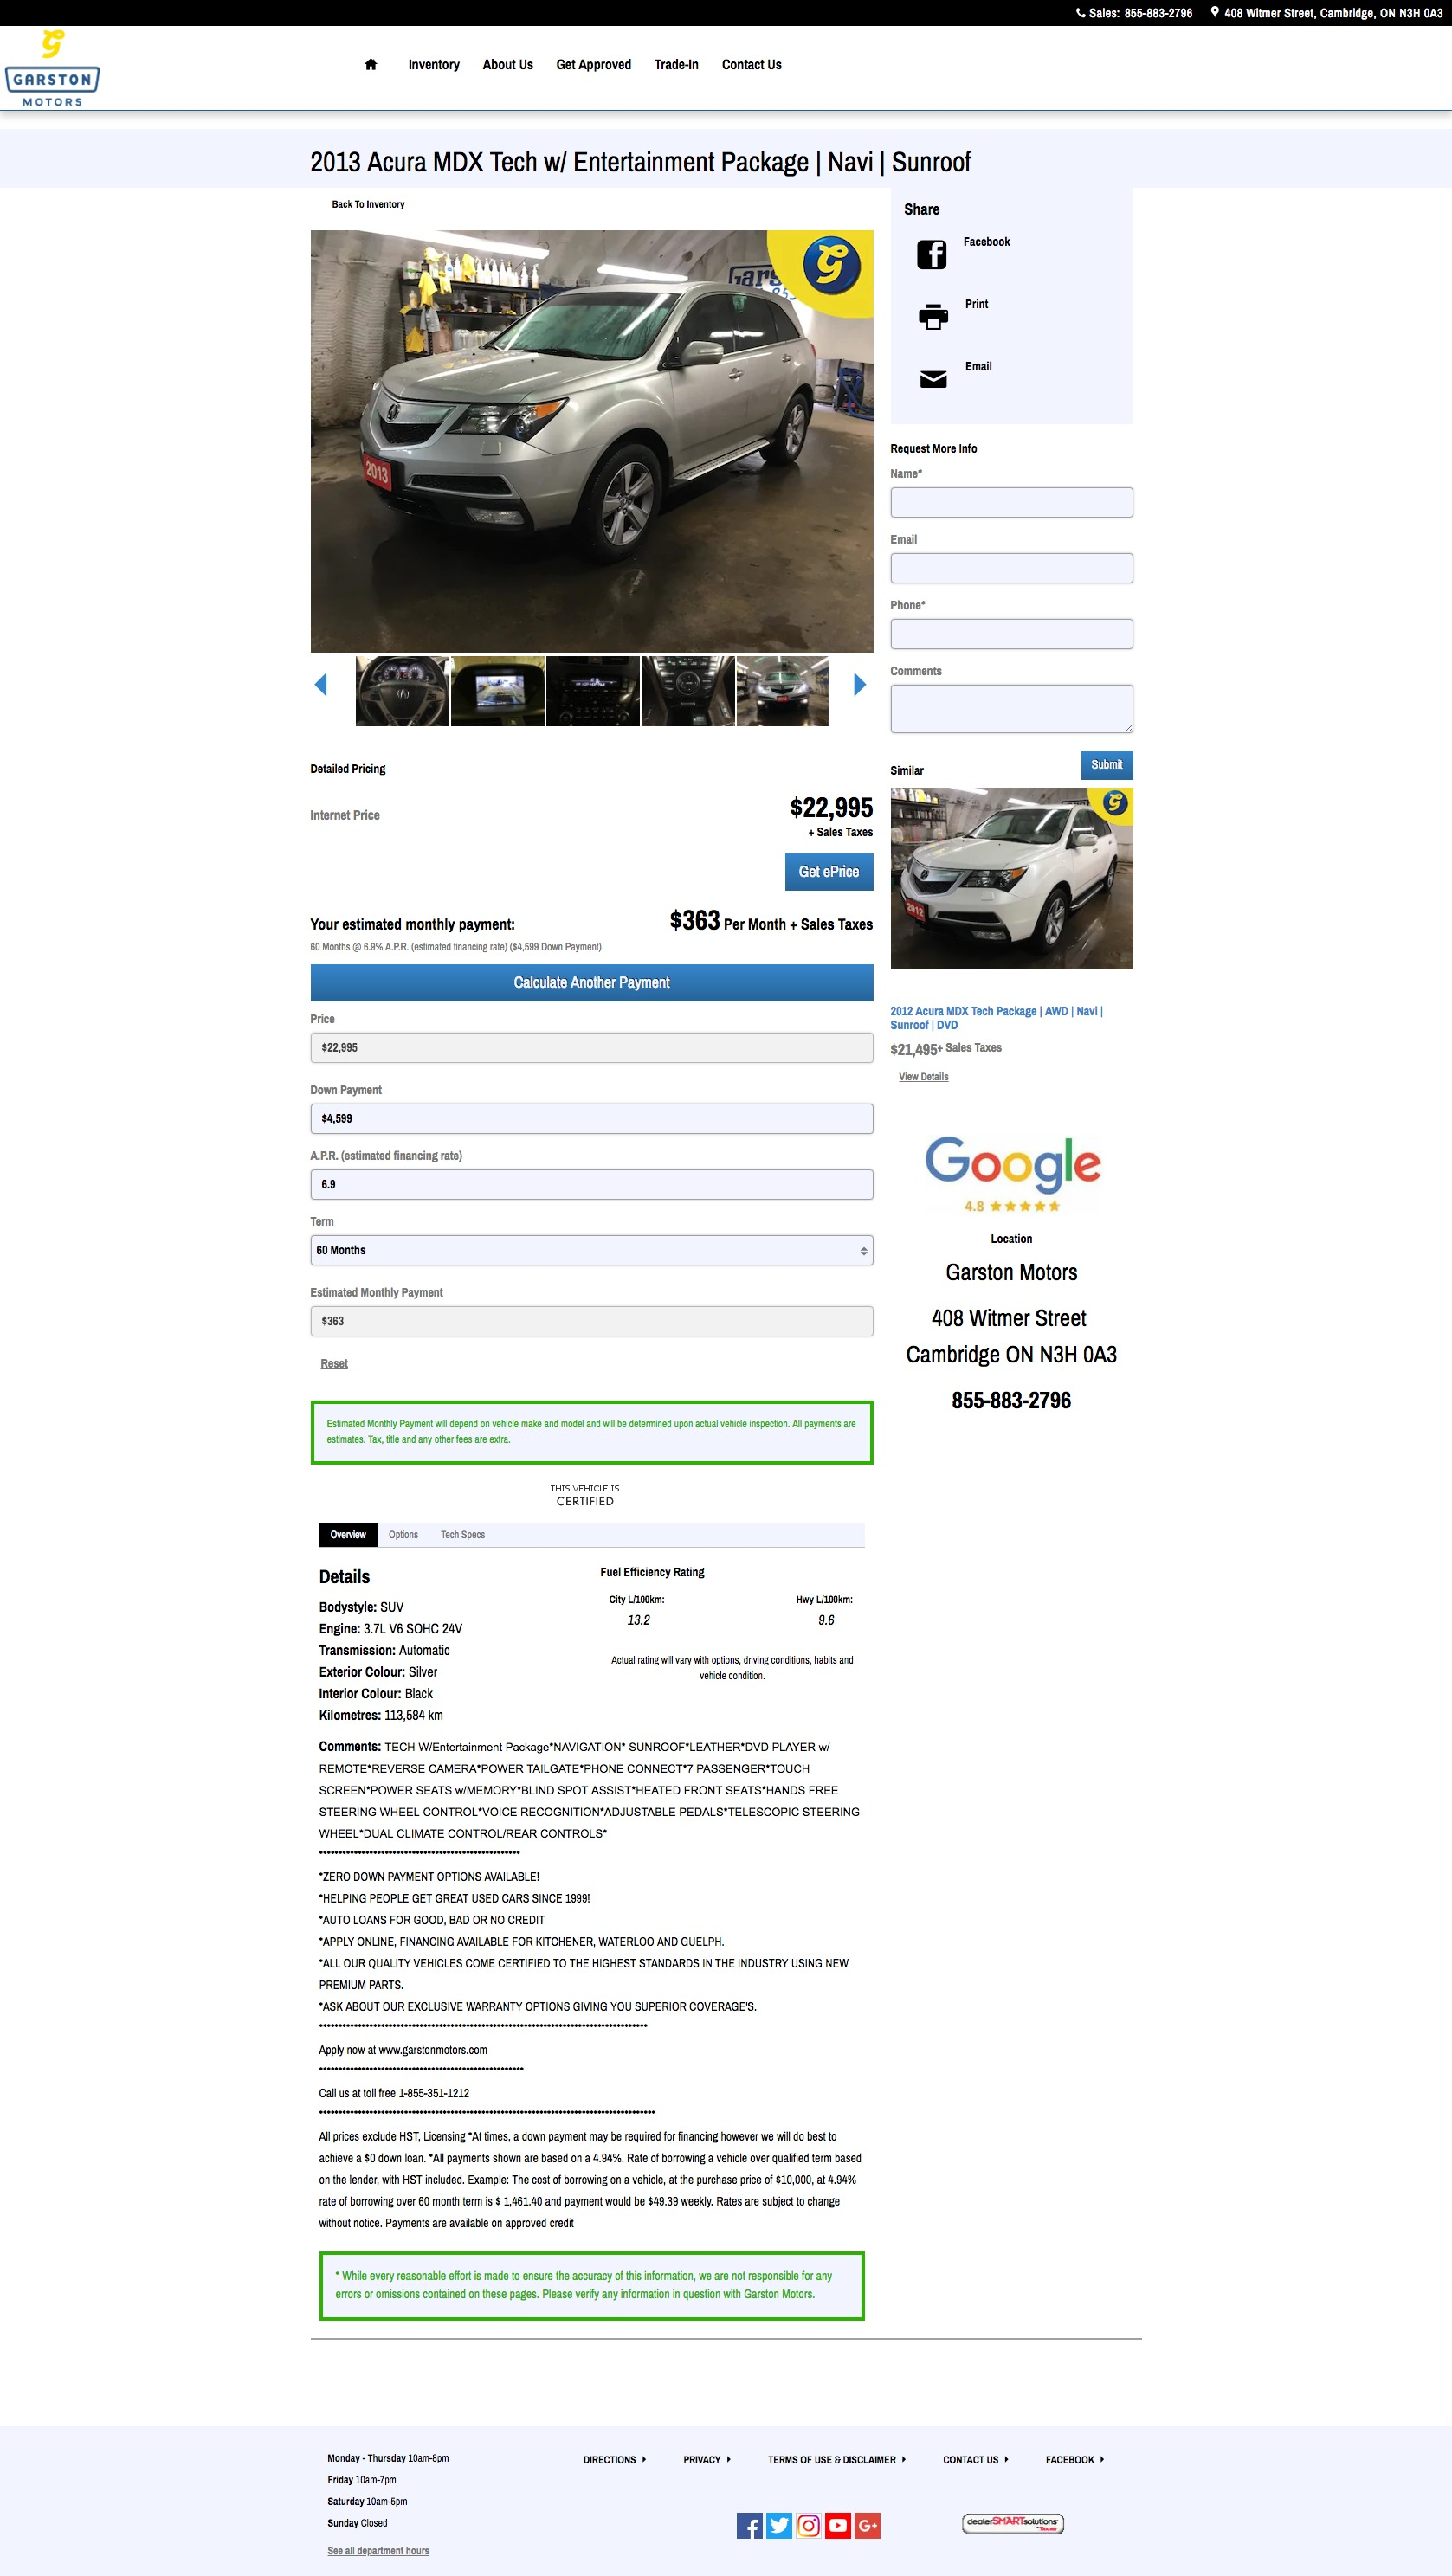car: (853, 672, 868, 697)
